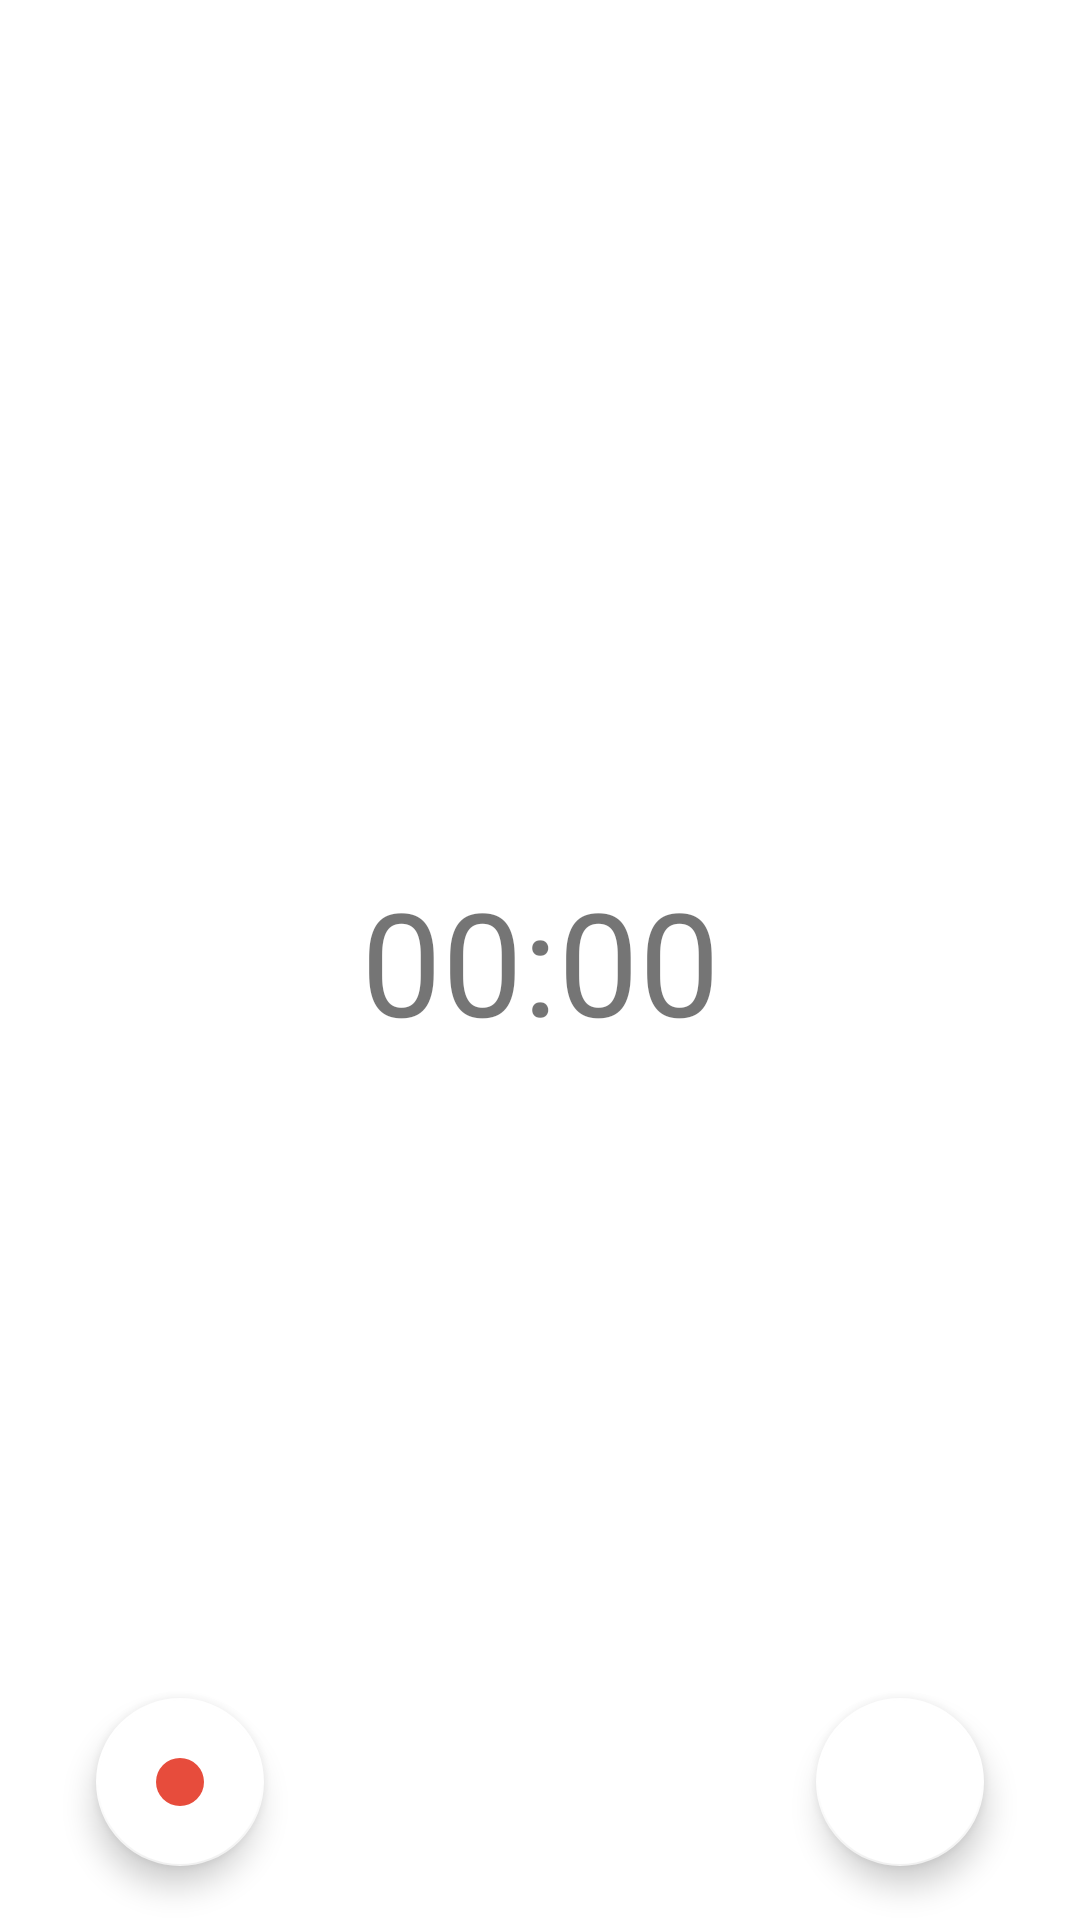

Icons on this 1080*1920 Android screen, each with the point to tap as [x,y]:
record: [177,1821]
